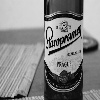beer: (43, 1, 86, 100)
